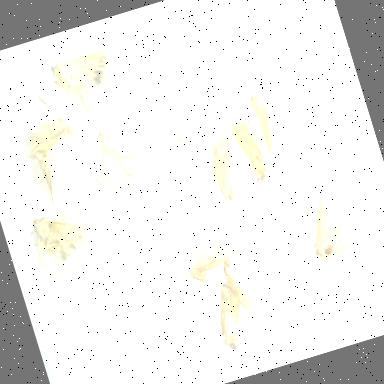abw: (292, 167, 380, 272), (17, 198, 107, 296), (42, 40, 130, 126), (86, 112, 158, 212), (240, 80, 301, 174), (201, 274, 262, 360), (220, 103, 278, 193), (197, 122, 253, 211), (29, 140, 86, 226), (9, 104, 84, 168), (176, 225, 249, 290), (216, 248, 274, 328)
